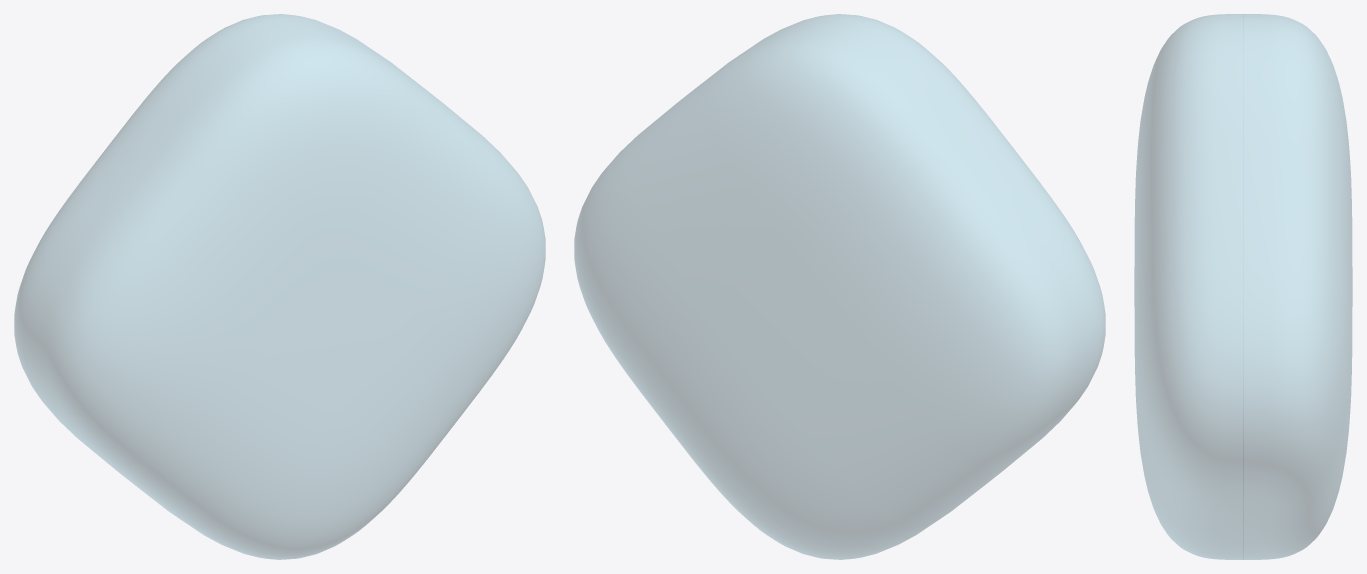
The picture shows the model from 3 angles, left to right: view 1: azimuth 30°, elevation 25°; view 2: azimuth 150°, elevation 25°; view 3: azimuth 270°, elevation 25°; orthographic projection.
Parts seen in each view (by area): view 1: gel-body; view 2: gel-body; view 3: gel-body.
Part boxes in pixels (x1,y1,x2,y2): gel-body: (14, 14, 545, 559); gel-body: (574, 14, 1105, 559); gel-body: (1134, 14, 1352, 559).
Size of the model in its own units: 1.85 by 1.85 by 0.7.
